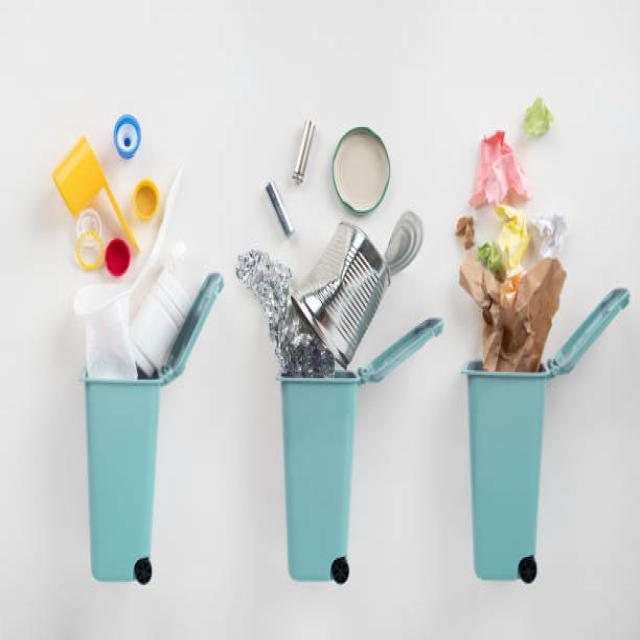metal: (251, 116, 363, 367)
paper: (460, 108, 545, 361)
plastic: (54, 97, 162, 383)
